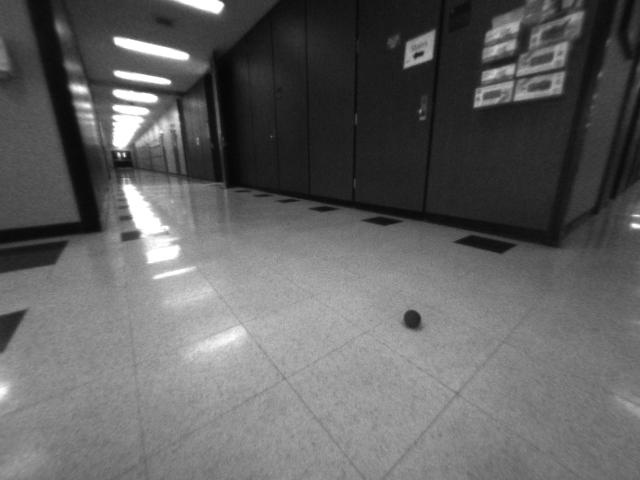dogtoy: (396, 304, 433, 335)
